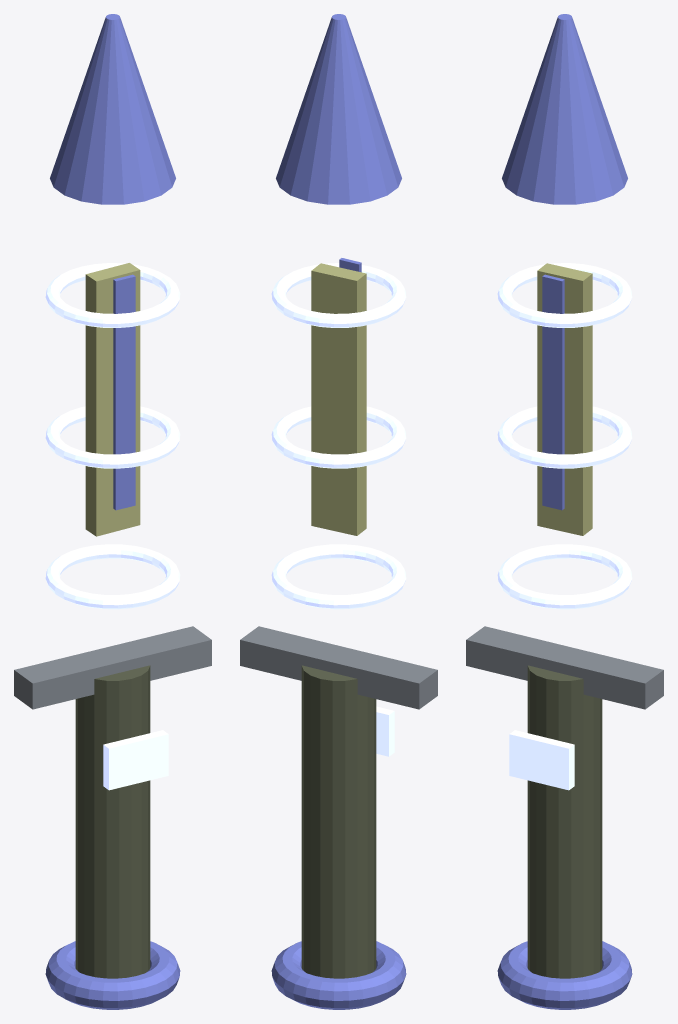
The model's file is asset.glb.
3 renders of one model, left to right at view 1: azimuth 30°, elevation 25°; view 2: azimuth 150°, elevation 25°; view 3: azimuth 330°, elevation 25°, orthographic.
Parts seen in each view (by area): view 1: Grip, BladeTip, BladeCore, Guard, Pommel, BladeEdge, EnergyBand_1.18, EnergyBand_2.26, EnergyBand_1.72, IdentityPlate; view 2: Grip, BladeTip, BladeCore, Guard, Pommel, EnergyBand_1.18, EnergyBand_2.26, EnergyBand_1.72, IdentityPlate; view 3: Grip, BladeTip, BladeCore, Guard, Pommel, BladeEdge, EnergyBand_1.18, EnergyBand_2.26, EnergyBand_1.72, IdentityPlate.
Boxes of the visible parts, left/top/right/bottom form: Grip: left=75, top=665, right=150, bottom=978; BladeTip: left=50, top=14, right=175, bottom=204; BladeCore: left=85, top=263, right=140, bottom=536; Guard: left=14, top=626, right=211, bottom=709; Pommel: left=45, top=941, right=180, bottom=1009; BladeEdge: left=113, top=274, right=135, bottom=510; EnergyBand_1.18: left=45, top=544, right=180, bottom=609; EnergyBand_2.26: left=45, top=263, right=180, bottom=327; EnergyBand_1.72: left=45, top=406, right=180, bottom=468; IdentityPlate: left=103, top=730, right=168, bottom=790; Grip: left=301, top=665, right=376, bottom=978; BladeTip: left=276, top=14, right=401, bottom=204; BladeCore: left=311, top=263, right=366, bottom=535; Guard: left=240, top=626, right=437, bottom=709; Pommel: left=271, top=941, right=406, bottom=1009; EnergyBand_1.18: left=271, top=544, right=406, bottom=609; EnergyBand_2.26: left=271, top=263, right=406, bottom=327; EnergyBand_1.72: left=271, top=406, right=406, bottom=468; IdentityPlate: left=376, top=706, right=394, bottom=756; Grip: left=527, top=665, right=602, bottom=978; BladeTip: left=502, top=14, right=627, bottom=204; BladeCore: left=537, top=263, right=592, bottom=535; Guard: left=466, top=626, right=663, bottom=709; Pommel: left=497, top=941, right=632, bottom=1009; BladeEdge: left=542, top=274, right=564, bottom=510; EnergyBand_1.18: left=497, top=544, right=632, bottom=609; EnergyBand_2.26: left=497, top=263, right=632, bottom=327; EnergyBand_1.72: left=497, top=406, right=632, bottom=468; IdentityPlate: left=509, top=730, right=574, bottom=790.
Bounding box in the file's own units: 0.72 × 3.72 × 0.47.
